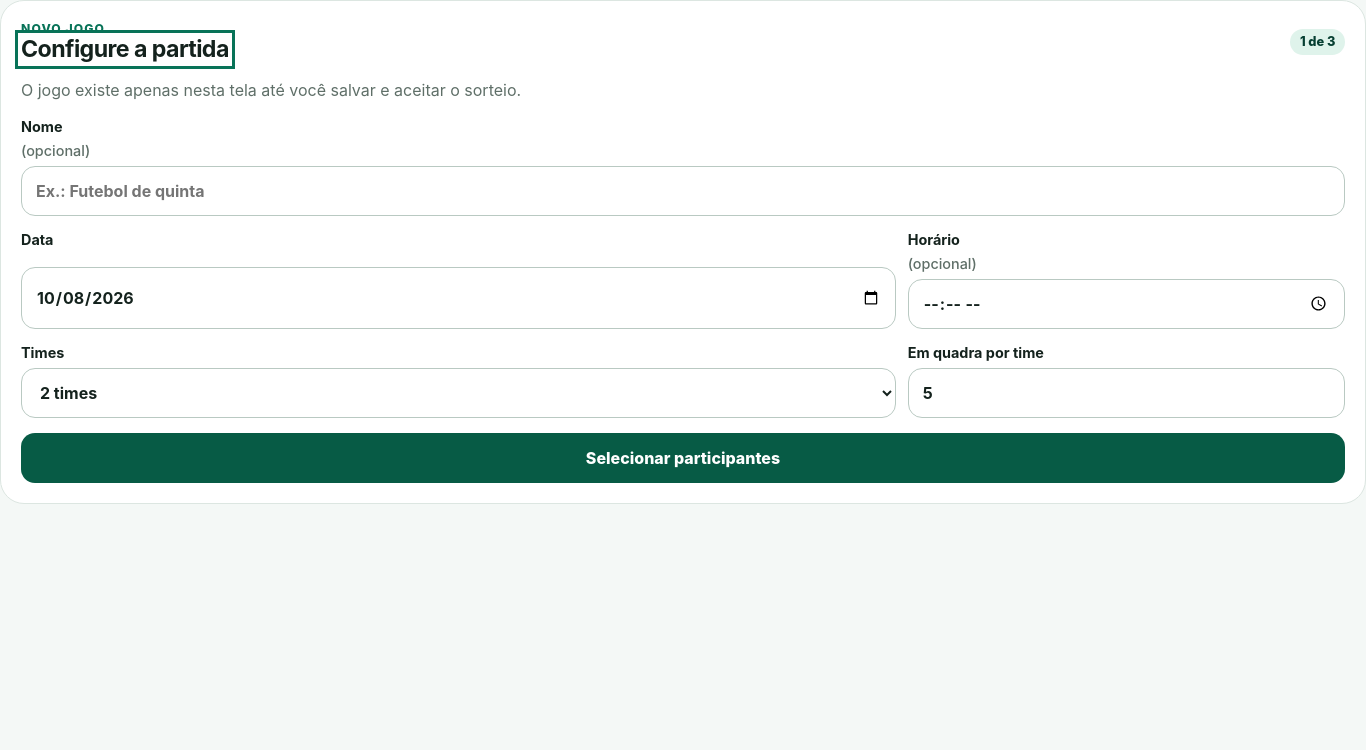
fluxo de jogo das Fases 5 e 6 › mantém dados para voltar e editar participantes ou configuração
This screenshot has width=1366, height=750.
Click the button "Selecionar participantes": {"x": 683, "y": 458} left=21, top=433, right=1345, bottom=483
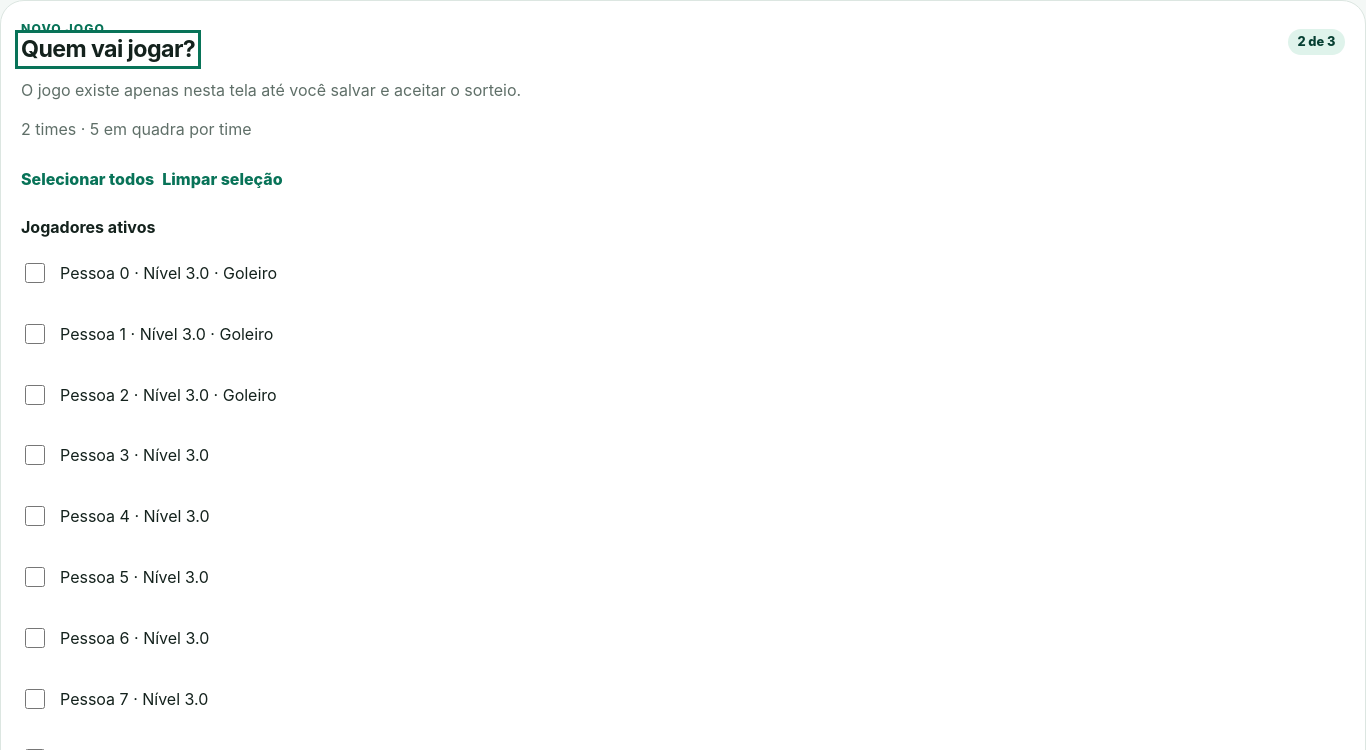
Click the button "Selecionar todos": {"x": 88, "y": 179} left=21, top=157, right=154, bottom=201
(page scrolled)
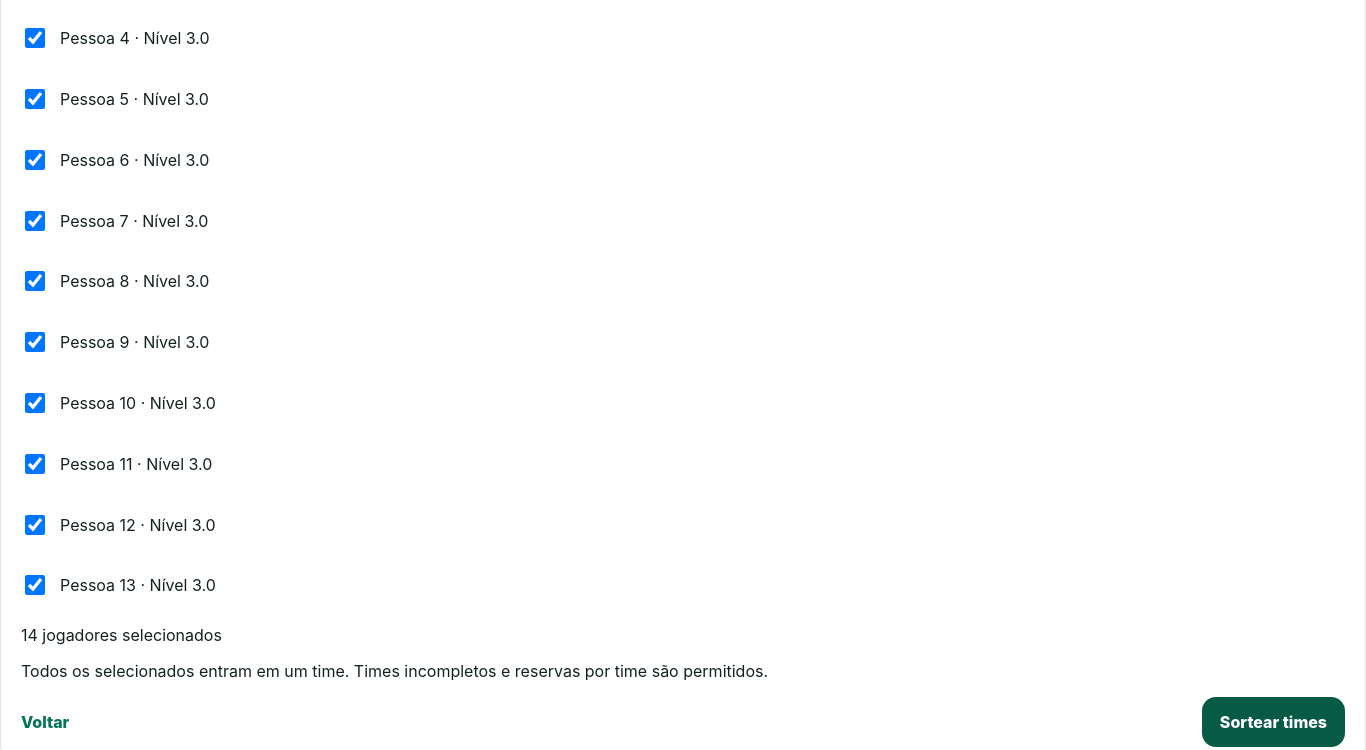
Click the button "Sortear times": {"x": 1273, "y": 722} left=1202, top=697, right=1345, bottom=747
(page scrolled)
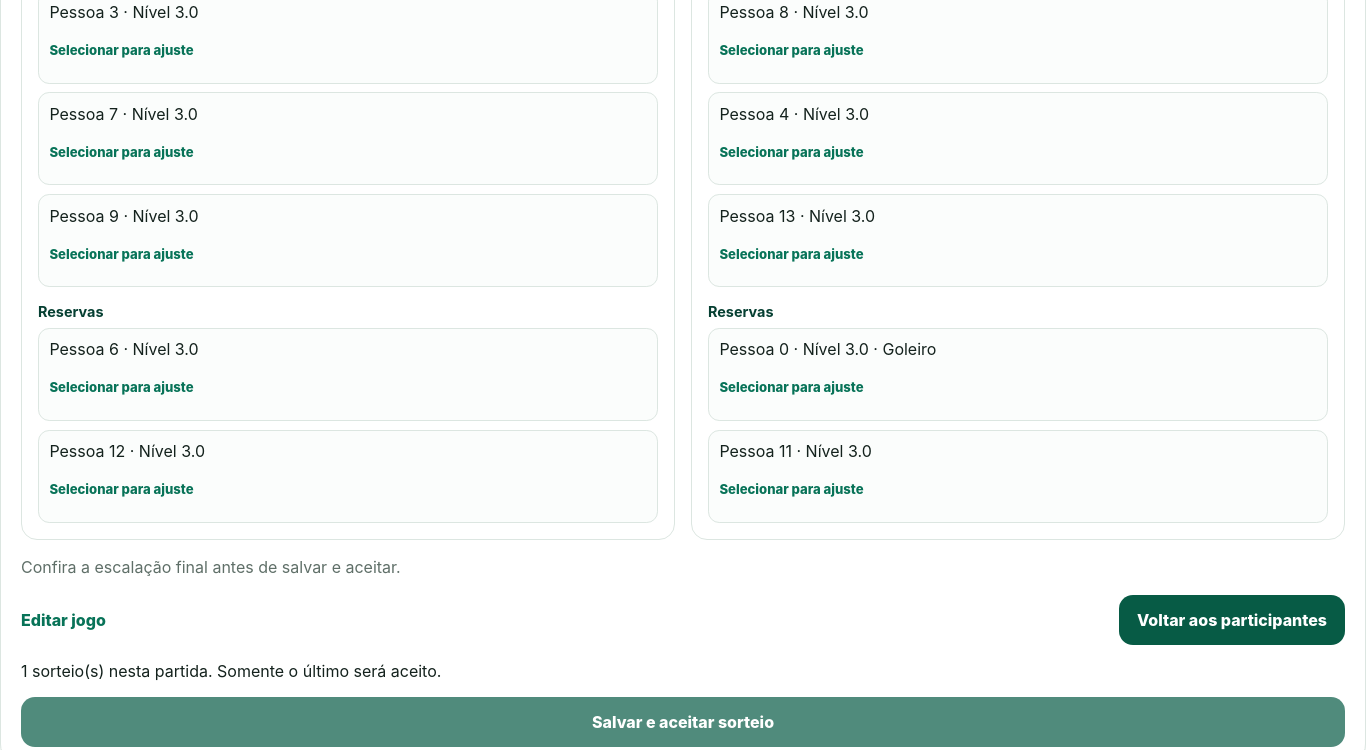
Click the button "Voltar aos participantes": {"x": 1232, "y": 620} left=1119, top=595, right=1345, bottom=645
(page scrolled)
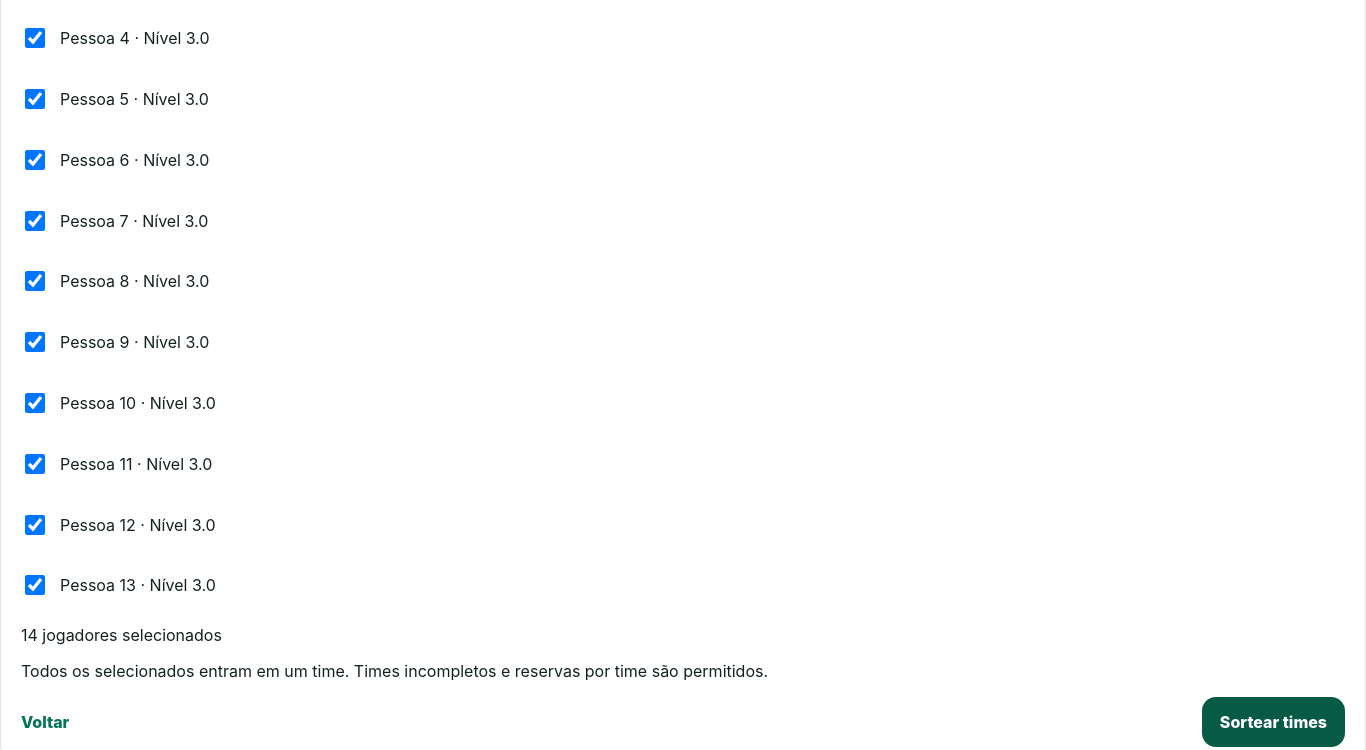
Expected: the text "14 jogadores selecionados" is shown, left=21, top=625, right=222, bottom=645
Click the button "Voltar": {"x": 45, "y": 722} left=21, top=700, right=69, bottom=744
(page scrolled)
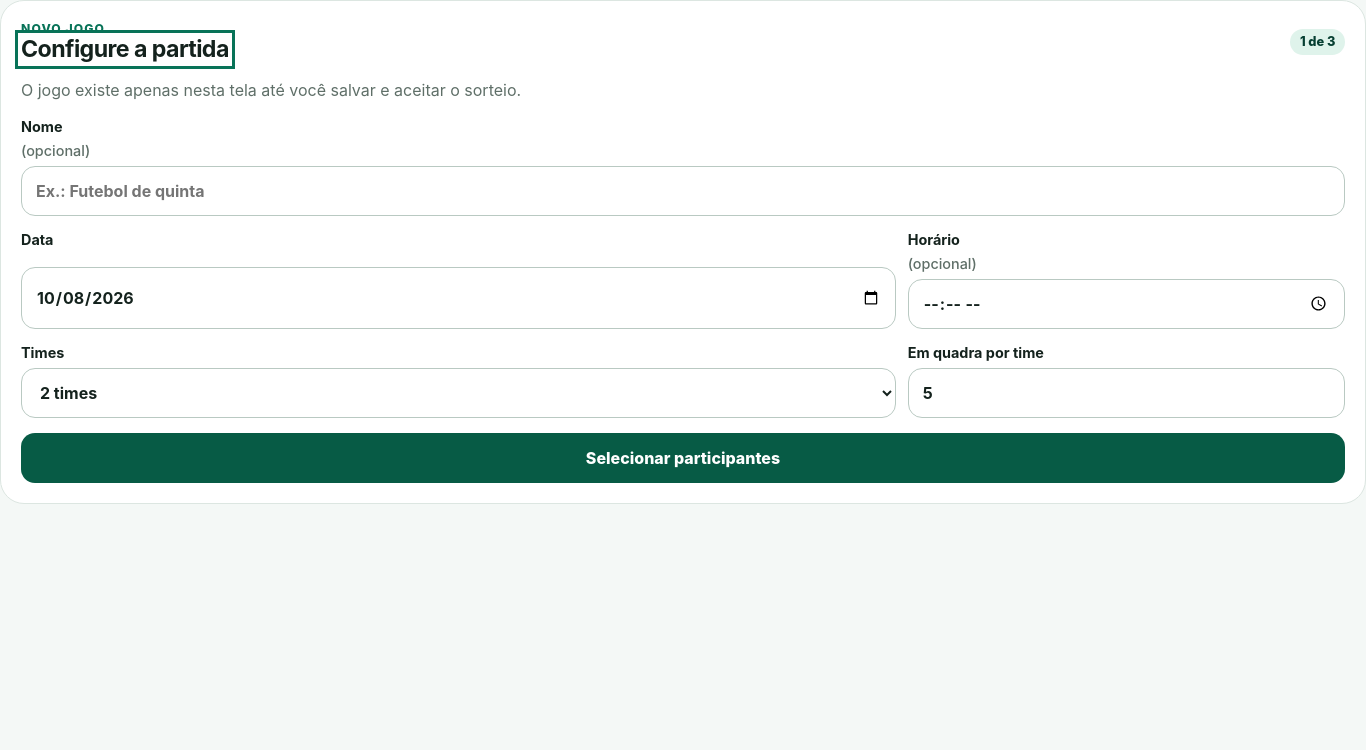
Expected: the text "existe apenas nesta tela" is shown, left=21, top=80, right=521, bottom=100
Expected: the heading "Configure a partida" is shown, left=21, top=36, right=229, bottom=63
